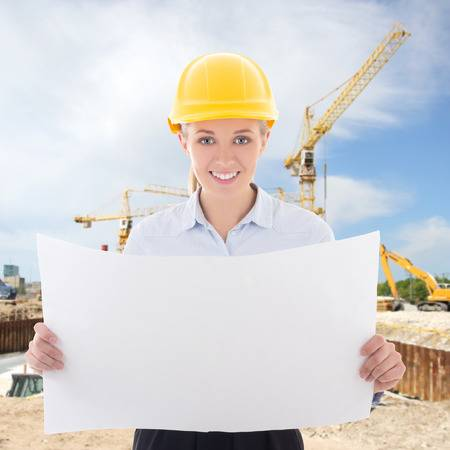casco: (165, 51, 280, 137)
